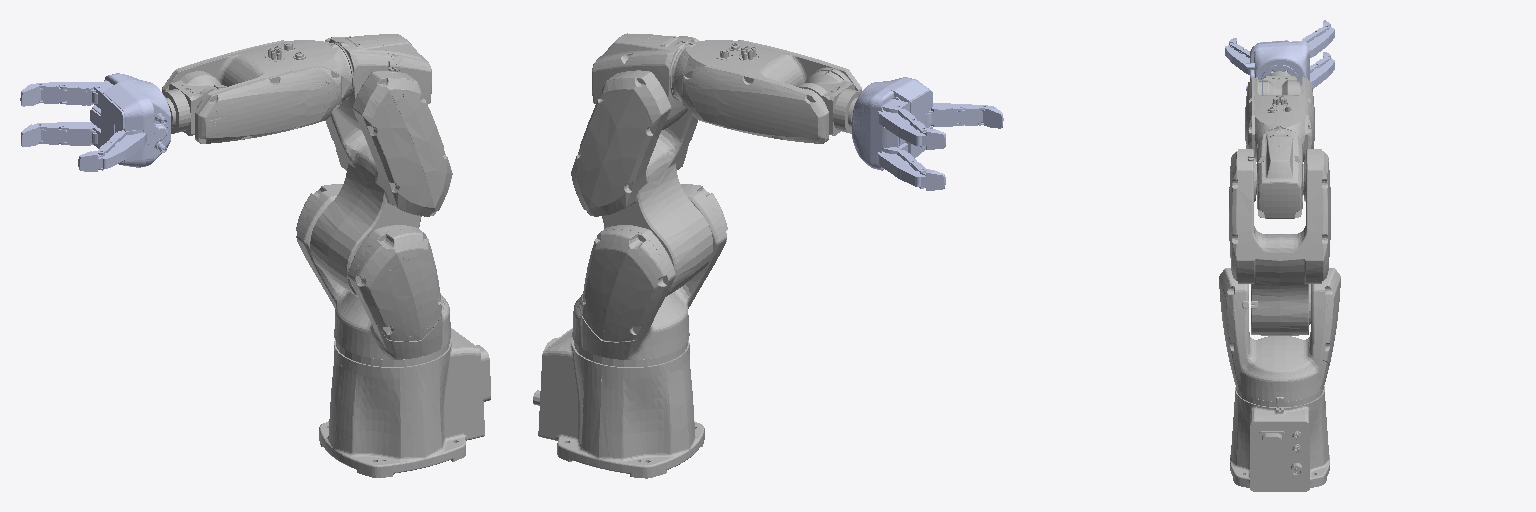
The robot description file, URDF, robot "IRB300_description":
<?xml version="1.0"?>
<robot
  name="IRB300_description">

  <link name="world" />

  <joint name="world_to_base_link=" type="fixed">
    <parent link="world"/>
    <child link="link_0"/>
  </joint>

  <link
    name="link_0">
    <inertial>
      <origin
        xyz="0.016159 0.099039 -0.062276"
        rpy="0 0 0" />
      <mass
        value="6.9262" />
      <inertia
        ixx="0.037951"
        ixy="0.00057219"
        ixz="-0.00020371"
        iyy="0.041753"
        iyz="-1.1994E-05"
        izz="0.048928" />
    </inertial>
    <visual>
      <origin
        xyz="0 0 0"
        rpy="0 0 0" />
      <geometry>
        <mesh
          filename="package://IRB300_description/meshes/link_0.STL" />
      </geometry>
      <material
        name="">
        <color
          rgba="0.75294 0.75294 0.75294 1" />
      </material>
    </visual>
    <collision>
      <origin
        xyz="0 0 0"
        rpy="0 0 0" />
      <geometry>
        <mesh
          filename="package://IRB300_description/meshes/link_0.STL" />
      </geometry>
    </collision>
  </link>
  <link
    name="link_1">
    <inertial>
      <origin
        xyz="-0.023596 6.0229E-05 -0.10188"
        rpy="0 0 0" />
      <mass
        value="3.9856" />
      <inertia
        ixx="0.039678"
        ixy="2.2975E-06"
        ixz="-0.0051384"
        iyy="0.024861"
        iyz="1.8016E-05"
        izz="0.031304" />
    </inertial>
    <visual>
      <origin
        xyz="0 0 0"
        rpy="0 0 0" />
      <geometry>
        <mesh
          filename="package://IRB300_description/meshes/link_1.STL" />
      </geometry>
      <material
        name="">
        <color
          rgba="0.75294 0.75294 0.75294 1" />
      </material>
    </visual>
    <collision>
      <origin
        xyz="0 0 0"
        rpy="0 0 0" />
      <geometry>
        <mesh
          filename="package://IRB300_description/meshes/link_1.STL" />
      </geometry>
    </collision>
  </link>
  <joint
    name="joint_1"
    type="revolute">
    <origin
      xyz="0 0.0625 0.19715"
      rpy="3.1416 0 0" />
    <parent
      link="link_0" />
    <child
      link="link_1" />
    <axis
      xyz="0 0 -1" />
    <limit
      lower="-1.484"
      upper="1.484"
      effort="-1"
      velocity="3.84" />
  </joint>
  <link
    name="link_2">
    <inertial>
      <origin
        xyz="0.0460367090319972 0.0052748913674297 0.000537034434000772"
        rpy="0 0 0" />
      <mass
        value="17.7972686684801" />
      <inertia
        ixx="1.31655654717894"
        ixy="-0.588086127025794"
        ixz="-0.00565385155392027"
        iyy="0.57847850783126"
        iyz="-0.00413845743780843"
        izz="1.79675365575923" />
    </inertial>
    <visual>
      <origin
        xyz="0 0 0"
        rpy="0 0 0" />
      <geometry>
        <mesh
          filename="package://IRB300_description/meshes/link_2.STL" />
      </geometry>
      <material
        name="">
        <color
          rgba="0.752941176470588 0.752941176470588 0.752941176470588 1" />
      </material>
    </visual>
    <collision>
      <origin
        xyz="0 0 0"
        rpy="0 0 0" />
      <geometry>
        <mesh
          filename="package://IRB300_description/meshes/link_2.STL" />
      </geometry>
    </collision>
  </link>
  <joint
    name="joint_2"
    type="revolute">
    <origin
      xyz="-0.05 0 -0.16885"
      rpy="-1.5708 -6.9389E-16 3.1416" />
    <parent
      link="link_1" />
    <child
      link="link_2" />
    <axis
      xyz="0 0 1" />
    <limit
      lower="-1.265"
      upper="0.681"
      effort="-1"
      velocity="3.665" />
  </joint>
  <link
    name="link_3">
    <inertial>
      <origin
        xyz="5.6145E-05 -0.012484 0.020197"
        rpy="0 0 0" />
      <mass
        value="1.7907" />
      <inertia
        ixx="0.0056217"
        ixy="4.7831E-07"
        ixz="-5.3393E-06"
        iyy="0.0043333"
        iyz="-0.00053155"
        izz="0.0038153" />
    </inertial>
    <visual>
      <origin
        xyz="0 0 0"
        rpy="0 0 0" />
      <geometry>
        <mesh
          filename="package://IRB300_description/meshes/link_3.STL" />
      </geometry>
      <material
        name="">
        <color
          rgba="0.75294 0.75294 0.75294 1" />
      </material>
    </visual>
    <collision>
      <origin
        xyz="0 0 0"
        rpy="0 0 0" />
      <geometry>
        <mesh
          filename="package://IRB300_description/meshes/link_3.STL" />
      </geometry>
    </collision>
  </link>
  <joint
    name="joint_3"
    type="revolute">
    <origin
      xyz="0 0.285 0"
      rpy="3.1416 1.5708 0" />
    <parent
      link="link_2" />
    <child
      link="link_3" />
    <axis
      xyz="-1 0 0" />
    <limit
      lower="-0.619"
      upper="1.509"
      effort="-1"
      velocity="4.363" />
  </joint>
  <link
    name="link_4">
    <inertial>
      <origin
        xyz="-0.00047659 -0.0014938 -0.12666"
        rpy="0 0 0" />
      <mass
        value="2.9518" />
      <inertia
        ixx="0.016526"
        ixy="1.5453E-06"
        ixz="-0.00017728"
        iyy="0.019492"
        iyz="-3.5231E-05"
        izz="0.007518" />
    </inertial>
    <visual>
      <origin
        xyz="0 0 0"
        rpy="0 0 0" />
      <geometry>
        <mesh
          filename="package://IRB300_description/meshes/link_4.STL" />
      </geometry>
      <material
        name="">
        <color
          rgba="0.75294 0.75294 0.75294 1" />
      </material>
    </visual>
    <collision>
      <origin
        xyz="0 0 0"
        rpy="0 0 0" />
      <geometry>
        <mesh
          filename="package://IRB300_description/meshes/link_4.STL" />
      </geometry>
    </collision>
  </link>
  <joint
    name="joint_4"
    type="revolute">
    <origin
      xyz="0 -0.045 -0.048453"
      rpy="0 0 3.1416" />
    <parent
      link="link_3" />
    <child
      link="link_4" />
    <axis
      xyz="0 0 -1" />
    <limit
      lower="-1.745"
      upper="1.745"
      effort="-1"
      velocity="5.236" />
  </joint>
  <link
    name="link_5">
    <inertial>
      <origin
        xyz="0.0149940173565468 1.48989589243698E-05 -0.00315629718720474"
        rpy="0 0 0" />
      <mass
        value="0.519143539991011" />
      <inertia
        ixx="0.000460602541403399"
        ixy="5.20408830863528E-08"
        ixz="-2.80773038828843E-05"
        iyy="0.000683005335743384"
        iyz="-1.93370389012974E-07"
        izz="0.000634167006460866" />
    </inertial>
    <visual>
      <origin
        xyz="0 0 0"
        rpy="0 0 0" />
      <geometry>
        <mesh
          filename="package://IRB300_description/meshes/link_5.STL" />
      </geometry>
      <material
        name="">
        <color
          rgba="0.752941176470588 0.752941176470588 0.752941176470588 1" />
      </material>
    </visual>
    <collision>
      <origin
        xyz="0 0 0"
        rpy="0 0 0" />
      <geometry>
        <mesh
          filename="package://IRB300_description/meshes/link_5.STL" />
      </geometry>
    </collision>
  </link>
  <joint
    name="joint_5"
    type="revolute">
    <origin
      xyz="0 0 -0.25155"
      rpy="3.1416 1.5708 0" />
    <parent
      link="link_4" />
    <child
      link="link_5" />
    <axis
      xyz="0 0 -1" />
    <limit
      lower="-1.047"
      upper="1.047"
      effort="-1"
      velocity="5.236" />
  </joint>
  <link
    name="link_6">
    <inertial>
      <origin
        xyz="0.004378 0.00012061 4.3021E-16"
        rpy="0 0 0" />
      <mass
        value="0.016668" />
      <inertia
        ixx="5.3036E-06"
        ixy="-5.7536E-09"
        ixz="2.0278E-20"
        iyy="2.796E-06"
        iyz="3.6184E-20"
        izz="2.7641E-06" />
    </inertial>
    <visual>
      <origin
        xyz="0 0 0"
        rpy="0 0 0" />
      <geometry>
        <mesh
          filename="package://IRB300_description/meshes/link_6.STL" />
      </geometry>
      <material
        name="">
        <color
          rgba="0.75294 0.75294 0.75294 1" />
      </material>
    </visual>
    <collision>
      <origin
        xyz="0 0 0"
        rpy="0 0 0" />
      <geometry>
        <mesh
          filename="package://IRB300_description/meshes/link_6.STL" />
      </geometry>
    </collision>
  </link>
  <joint
    name="joint_6"
    type="revolute">
    <origin
      xyz="0.0695 0 0"
      rpy="-0.017978 0 0" />
    <parent
      link="link_5" />
    <child
      link="link_6" />
    <axis
      xyz="1 0 0" />
    <limit
      lower="-3.14"
      upper="3.14"
      effort="-1"
      velocity="7.854" />
  </joint>
  <link
    name="gripper">
    <inertial>
      <origin
        xyz="-0.00698 0.062933 4.7812E-06"
        rpy="0 0 0" />
      <mass
        value="1.6073" />
      <inertia
        ixx="0.0045505"
        ixy="0.00060127"
        ixz="-5.3662E-07"
        iyy="0.0055435"
        iyz="1.4357E-06"
        izz="0.0067082" />
    </inertial>
    <visual>
      <origin
        xyz="0 0 0"
        rpy="0 0 0" />
      <geometry>
        <mesh
          filename="package://IRB300_description/meshes/gripper.STL" />
      </geometry>
      <material
        name="">
        <color
          rgba="0.79608 0.82353 0.93725 1" />
      </material>
    </visual>
    <collision>
      <origin
        xyz="0 0 0"
        rpy="0 0 0" />
      <geometry>
        <mesh
          filename="package://IRB300_description/meshes/gripper.STL" />
      </geometry>
    </collision>
  </link>
  <joint
    name="joint_7"
    type="fixed">
    <origin
      xyz="0.0232 0 0"
      rpy="0.5605 -1.5708 -2.1316" />
    <parent
      link="link_6" />
    <child
      link="gripper" />
    <axis
      xyz="0 0 0" />
  </joint>

  <transmission name="tran1">
    <type>transmission_interface/SimpleTransmission</type>
    <joint name="joint_1">
      <hardwareInterface>hardware_interface/PositionJointInterface</hardwareInterface>
    </joint>
    <actuator name="motor1">
      <mechanicalReduction>1</mechanicalReduction>
    </actuator>
  </transmission>
  <transmission name="tran2">
    <type>transmission_interface/SimpleTransmission</type>
    <joint name="joint_2">
      <hardwareInterface>hardware_interface/PositionJointInterface</hardwareInterface>
    </joint>
    <actuator name="motor2">
      <mechanicalReduction>1</mechanicalReduction>
    </actuator>
  </transmission>
  <transmission name="tran3">
    <type>transmission_interface/SimpleTransmission</type>
    <joint name="joint_3">
      <hardwareInterface>hardware_interface/PositionJointInterface</hardwareInterface>
    </joint>
    <actuator name="motor3">
      <mechanicalReduction>1</mechanicalReduction>
    </actuator>
  </transmission>
  <transmission name="tran4">
    <type>transmission_interface/SimpleTransmission</type>
    <joint name="joint_4">
      <hardwareInterface>hardware_interface/PositionJointInterface</hardwareInterface>
    </joint>
    <actuator name="motor4">
      <mechanicalReduction>1</mechanicalReduction>
    </actuator>
  </transmission>
  <transmission name="tran5">
    <type>transmission_interface/SimpleTransmission</type>
    <joint name="joint_5">
      <hardwareInterface>hardware_interface/PositionJointInterface</hardwareInterface>
    </joint>
    <actuator name="motor5">
      <mechanicalReduction>1</mechanicalReduction>
    </actuator>
  </transmission>
  <transmission name="tran6">
    <type>transmission_interface/SimpleTransmission</type>
    <joint name="joint_6">
      <hardwareInterface>hardware_interface/PositionJointInterface</hardwareInterface>
    </joint>
    <actuator name="motor6">
      <mechanicalReduction>1</mechanicalReduction>
    </actuator>
  </transmission>

  <gazebo>
    <plugin name="ros_control" filename="libgazebo_ros_control.so">
      
    </plugin>
  </gazebo>



</robot>

--- What the picture shows (computed from the rendered views, not written in the file) ---
The picture shows the robot from 3 angles, left to right: view 1: azimuth 30°, elevation 25°; view 2: azimuth 150°, elevation 25°; view 3: azimuth 270°, elevation 25°; orthographic projection.
Model IRB300_description with 9 links and 8 joints (6 revolute, 2 fixed), rooted at world, posed every joint at zero.
Visible links, largest first — view 1: link_0, link_2, link_1, link_4, gripper, link_3, link_5; view 2: link_0, link_2, link_1, link_4, gripper, link_3, link_5; view 3: link_2, link_1, link_0, link_3, gripper, link_4, link_5.
Link boxes in pixels (box(x1,y1,x2,y2)): link_0: box(319, 328, 490, 477); link_2: box(310, 37, 452, 297); link_1: box(296, 184, 450, 359); link_4: box(162, 40, 351, 143); gripper: box(20, 73, 170, 171); link_3: box(329, 34, 431, 130); link_5: box(162, 71, 226, 135); link_0: box(533, 328, 704, 478); link_2: box(571, 36, 712, 296); link_1: box(572, 184, 727, 359); link_4: box(672, 40, 861, 143); gripper: box(852, 77, 1003, 190); link_3: box(592, 33, 694, 129); link_5: box(796, 71, 861, 135); link_2: box(1229, 149, 1330, 335); link_1: box(1219, 268, 1340, 402); link_0: box(1230, 386, 1329, 491); link_3: box(1256, 129, 1303, 218); gripper: box(1225, 20, 1334, 94); link_4: box(1245, 77, 1314, 161); link_5: box(1263, 71, 1299, 94).
Bounding box of the posed robot: 0.8046 × 0.2578 × 0.7636 m (x, y, z).
Meshes: 8 distinct files referenced, 8 mesh visuals loaded (8 binary STL).